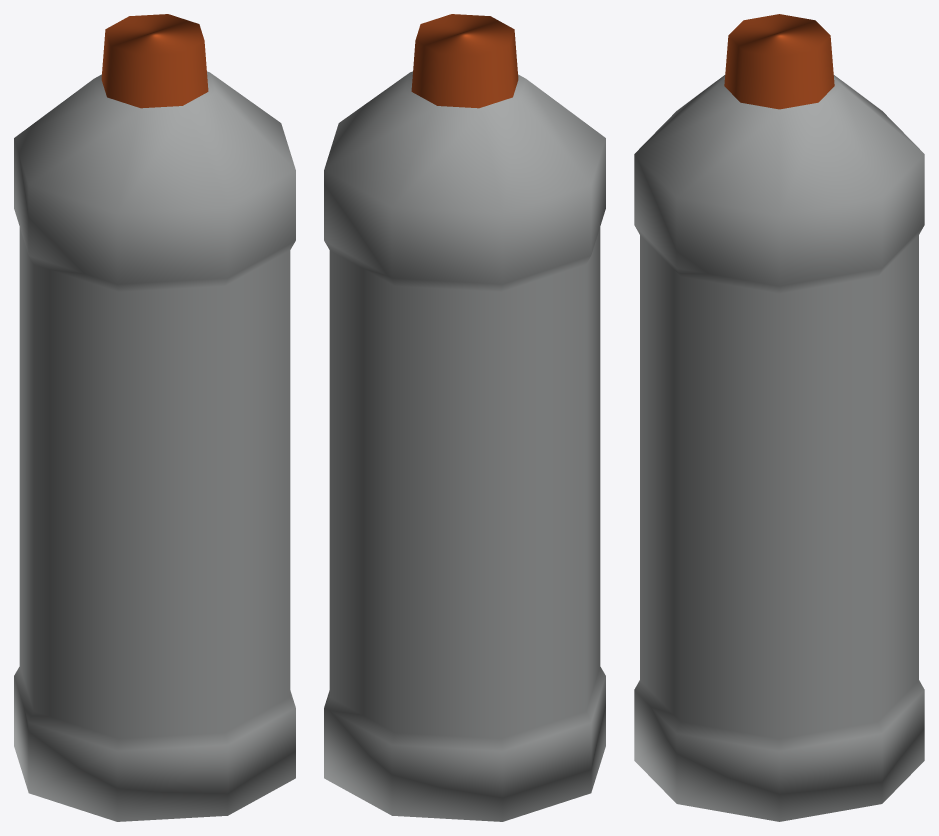
File: bottle2.fbx
3 renders of one model, left to right at view 1: azimuth 30°, elevation 25°; view 2: azimuth 150°, elevation 25°; view 3: azimuth 270°, elevation 25°, orthographic.
Parts seen in each view (by area): view 1: BottlePlastic6; view 2: BottlePlastic6; view 3: BottlePlastic6.
Part boxes in pixels (x1=…): BottlePlastic6: x1=14, y1=14, x2=295, y2=821; BottlePlastic6: x1=324, y1=14, x2=605, y2=821; BottlePlastic6: x1=634, y1=14, x2=924, y2=821.
Bounding box in the file's own units: 58.41 × 161 × 58.41.
